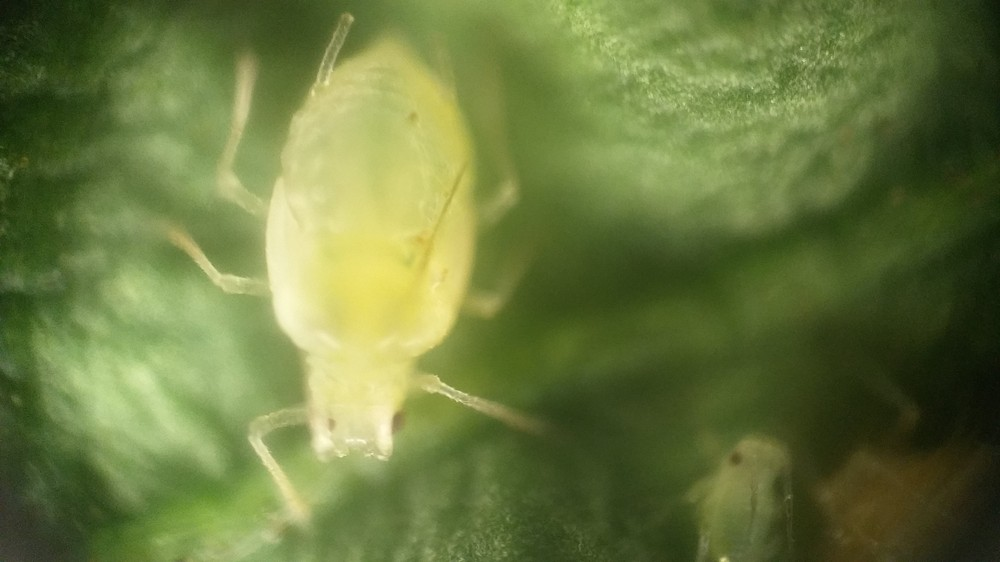Pulgon: (168, 11, 585, 525), (660, 419, 806, 562)
